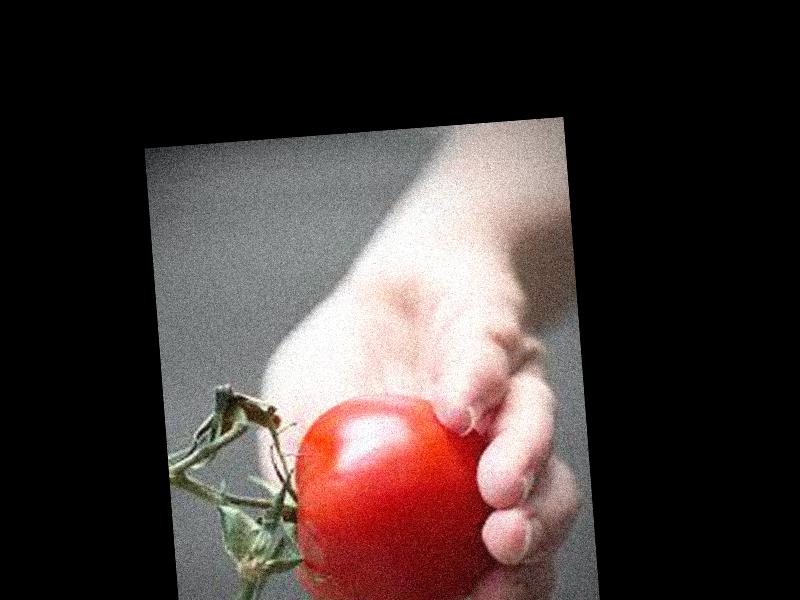Tomato: (279, 388, 500, 600)
